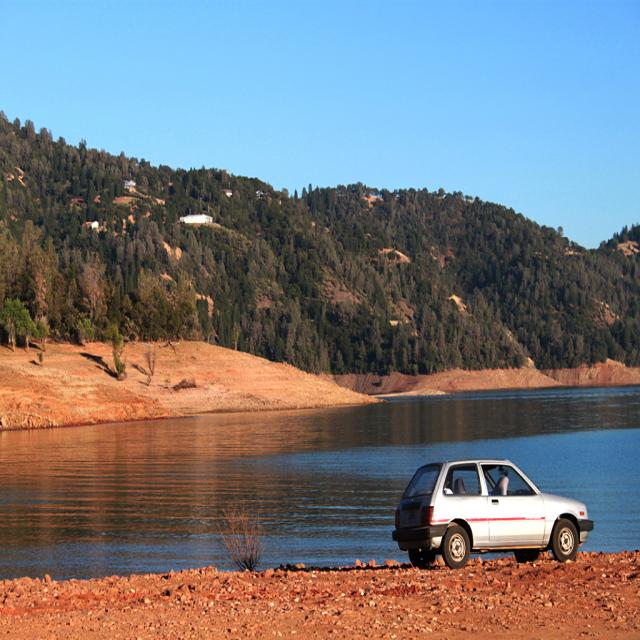car: (392, 455, 591, 570)
